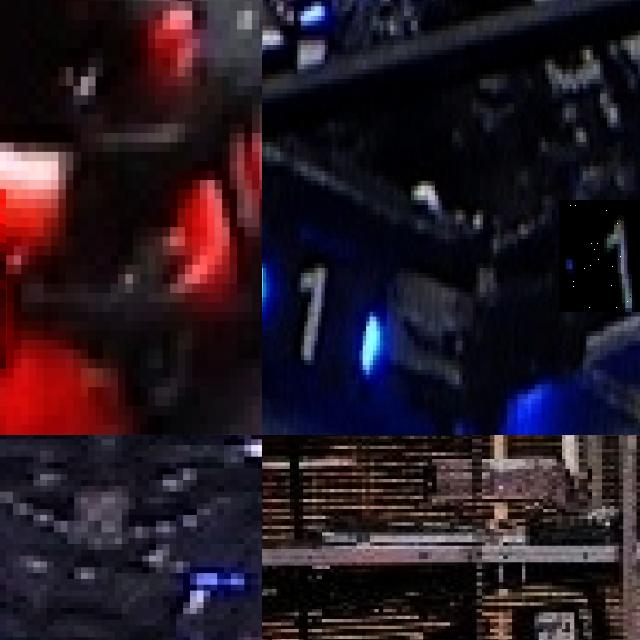B1: (262, 251, 388, 387), (558, 200, 640, 311)
